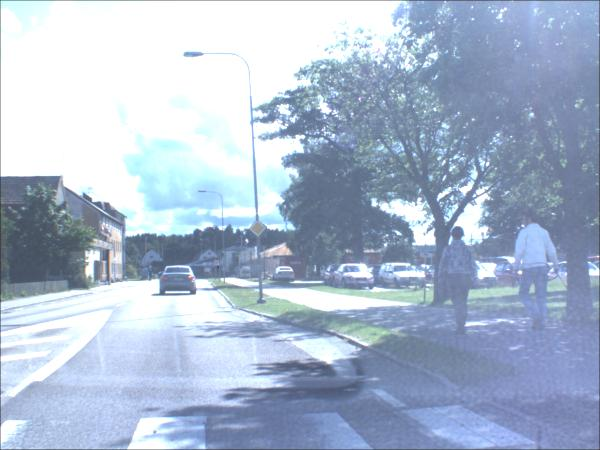NO_STOPPING_NO_STANDING: (215, 262, 221, 268)
PRIORITY_ROAD: (250, 223, 269, 241), (215, 267, 221, 271)
